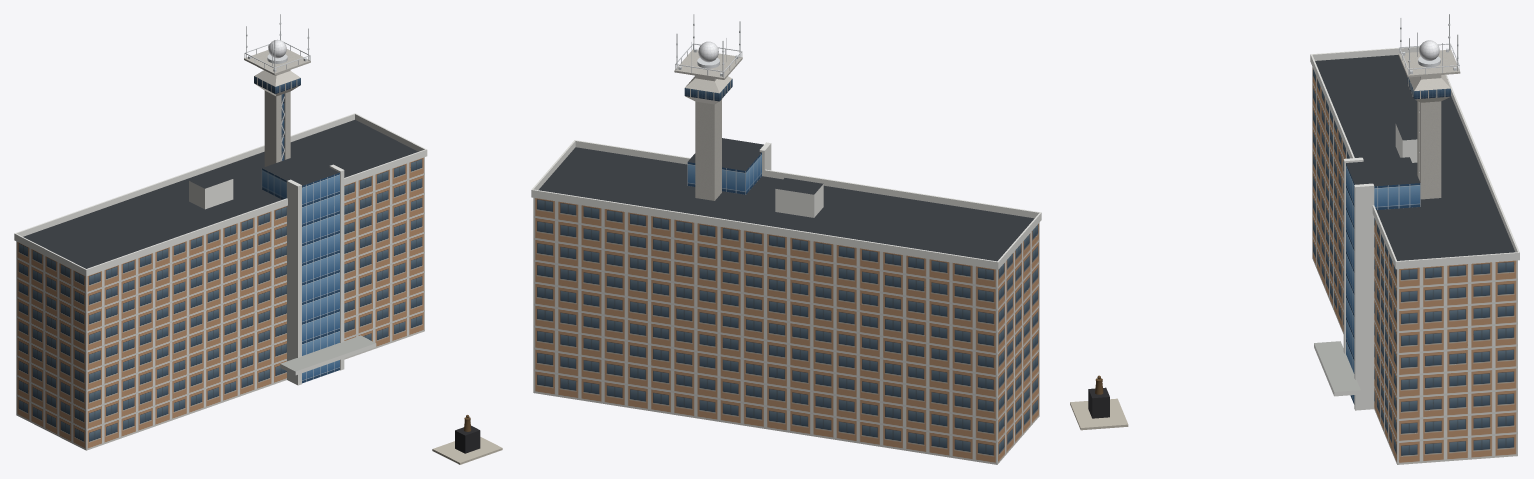
File: shangxianlou.glb
3 views of the same model, side by side, from view 1: azimuth 30°, elevation 25°; view 2: azimuth 150°, elevation 25°; view 3: azimuth 270°, elevation 25° (orthographic). The views are drawn at different scales.
Parts seen in each view (by area): view 1: 尚贤楼, 尚贤楼_雕像; view 2: 尚贤楼; view 3: 尚贤楼, 尚贤楼_雕像.
Part boxes in pixels (x1=…): 尚贤楼: x1=14, y1=14, x2=427, y2=450; 尚贤楼_雕像: x1=432, y1=415, x2=502, y2=464; 尚贤楼: x1=531, y1=14, x2=1041, y2=464; 尚贤楼: x1=1310, y1=14, x2=1519, y2=464; 尚贤楼_雕像: x1=1070, y1=375, x2=1128, y2=430.
Bounding box in the file's own units: 74.05 × 58.3 × 64.98.
Materials: 12 (5 with a texture image).
